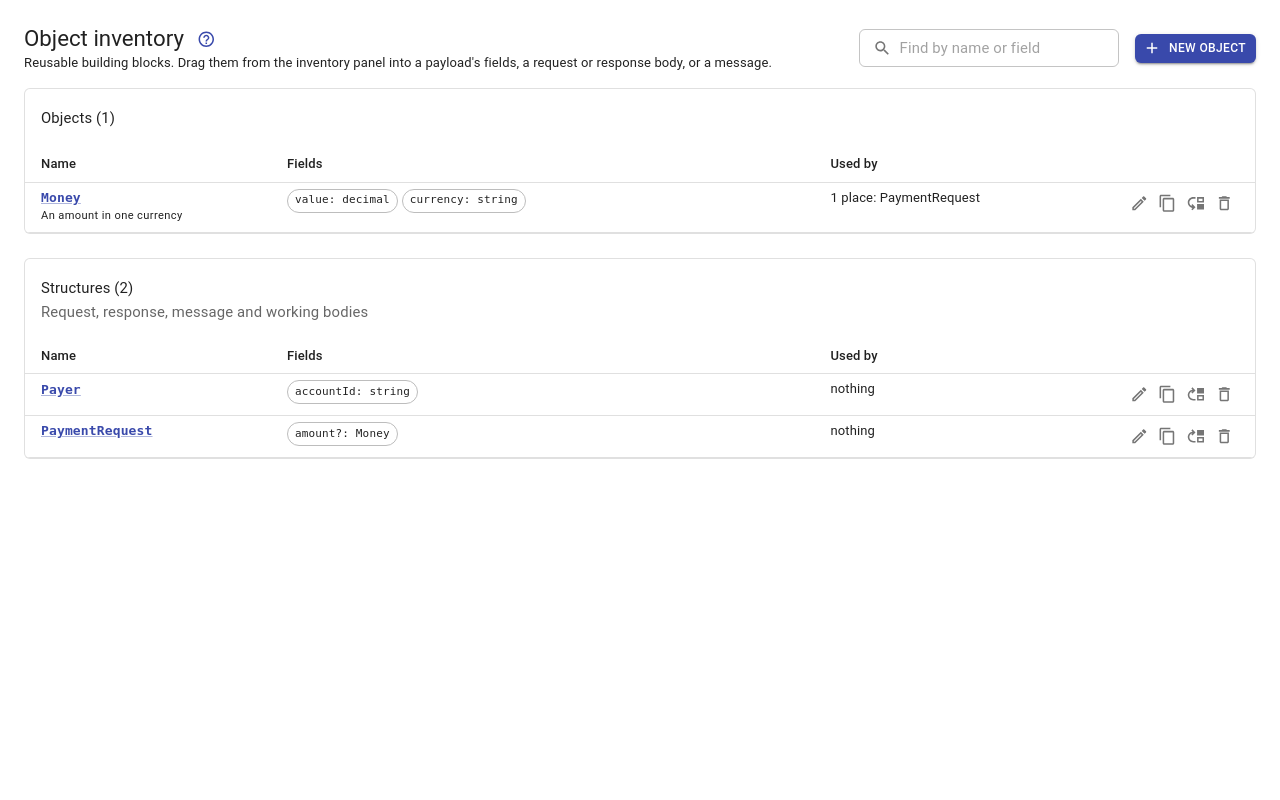
Scenario: Object inventory › moves a structure into the inventory, and refuses to delete an object in use
Click the button named "Move Payer into the inventory" at (1196, 395), box x1=1182 y1=380 x2=1210 y2=409
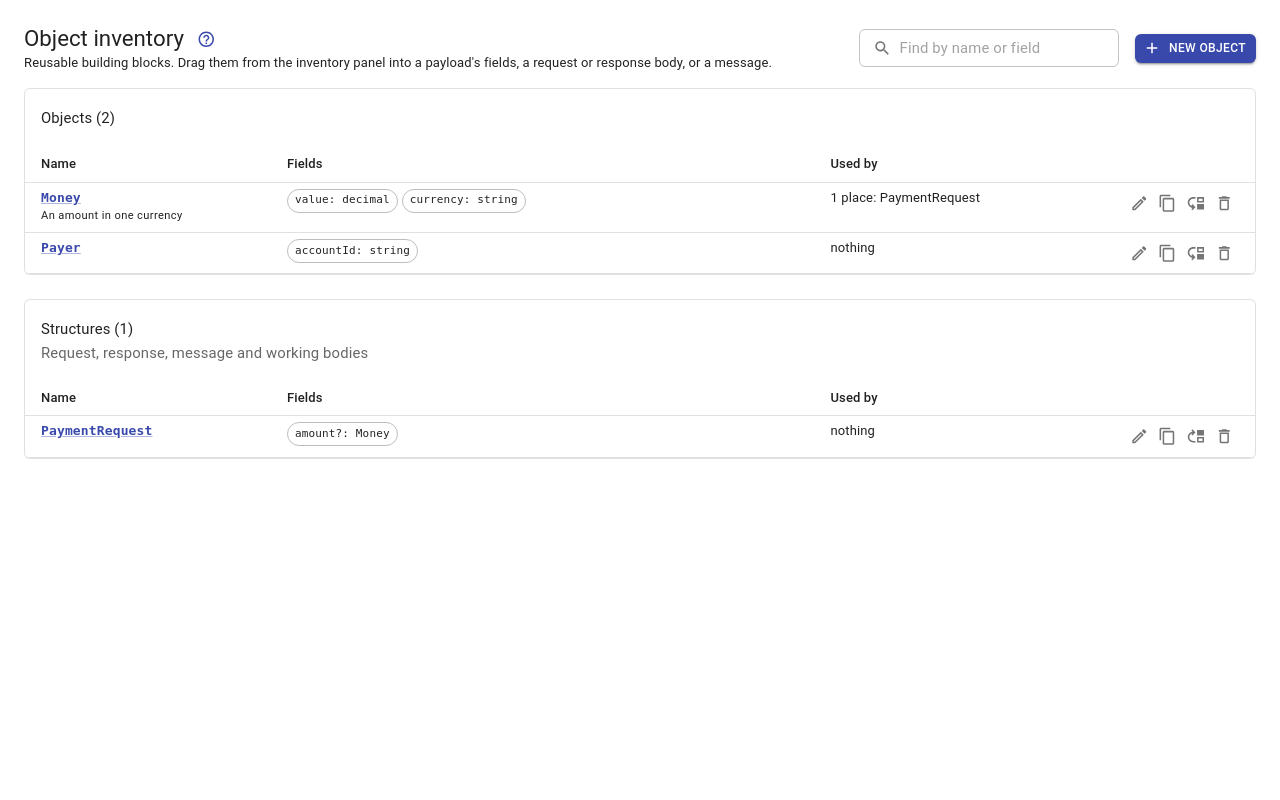
Expected: the button "Payer" is shown, x1=41 y1=239 x2=81 y2=258
Expected: the text "1 place: PaymentRequest" is shown, x1=830 y1=190 x2=980 y2=205
Click the button named "Delete Money" at (1225, 203), box x1=1210 y1=189 x2=1239 y2=217
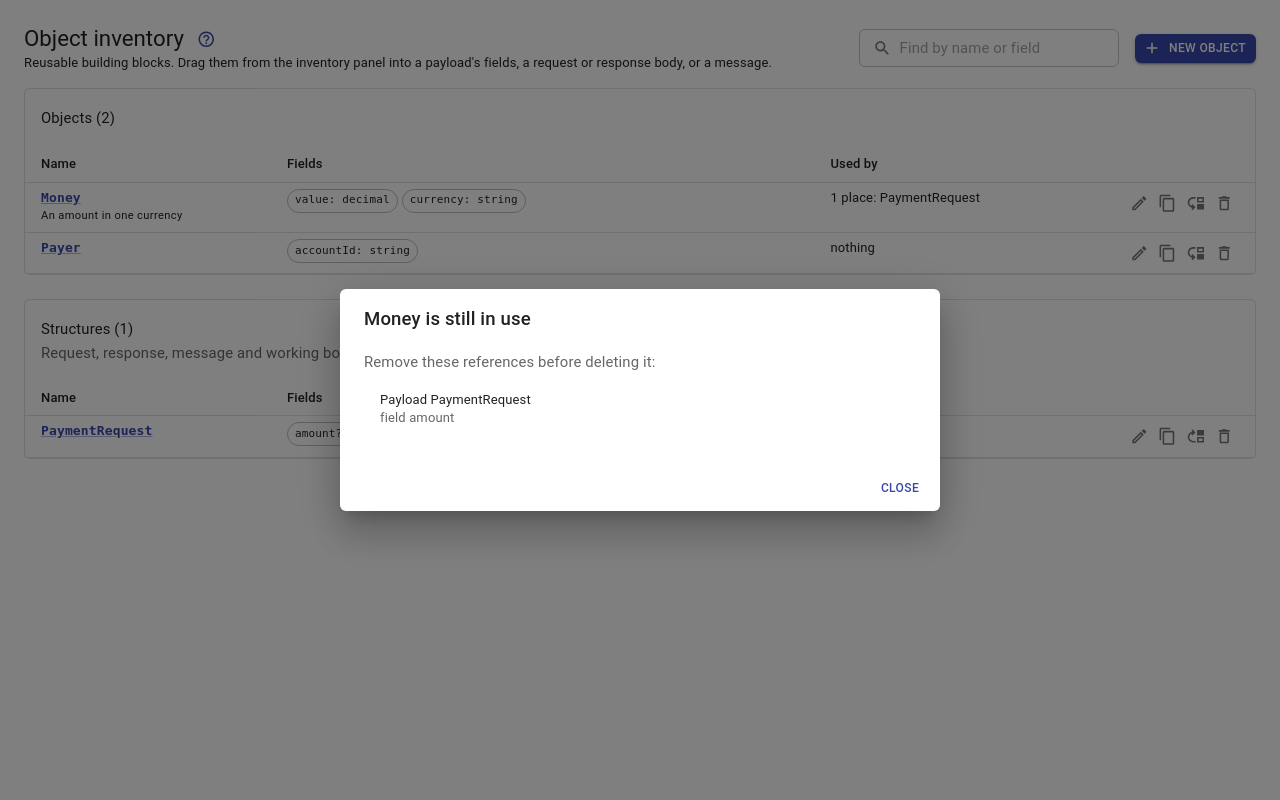
Result: the text "field amount" is shown at x1=380 y1=410 x2=454 y2=425
